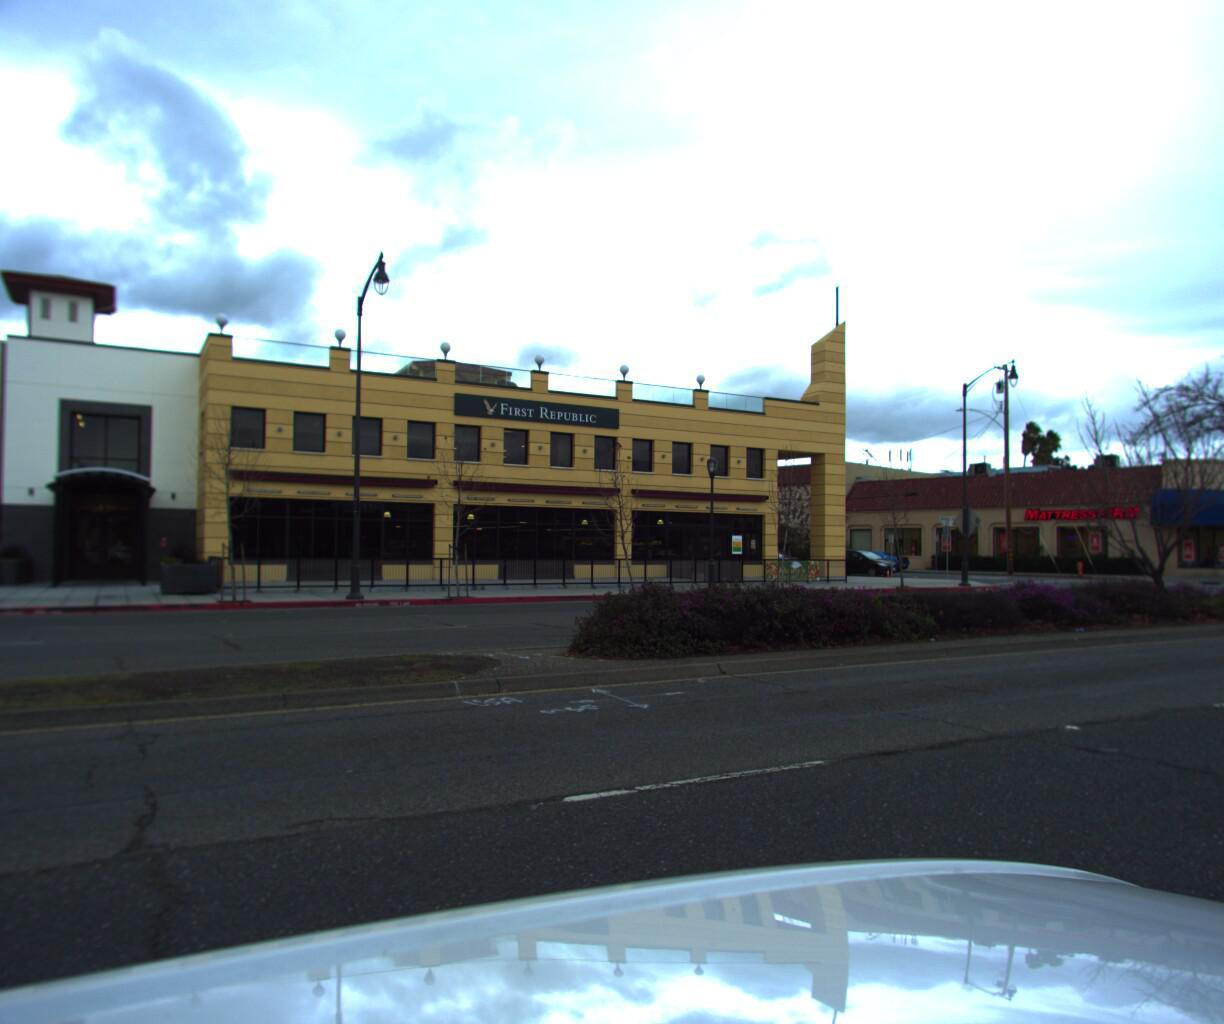car: (817, 545, 902, 571), (831, 545, 909, 568)
